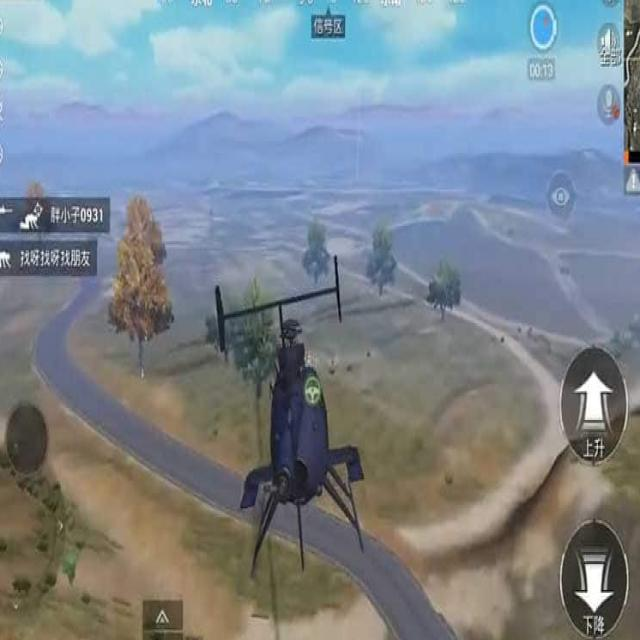helicopter: (209, 241, 370, 588)
